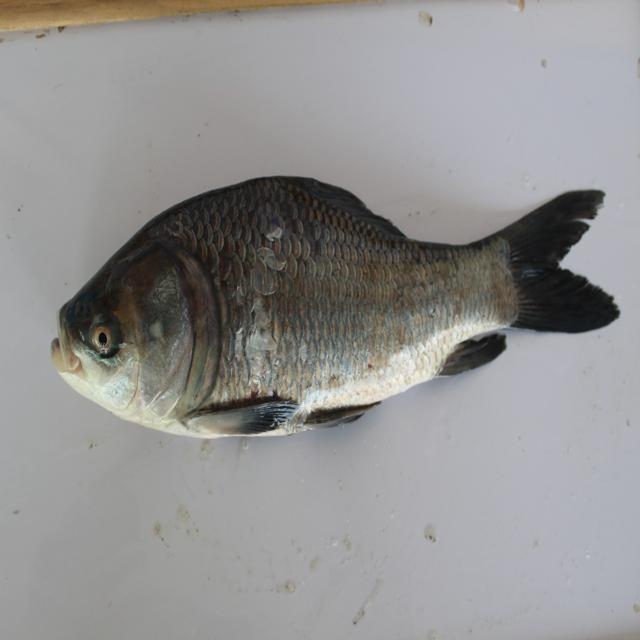Catla: (29, 166, 628, 442)
